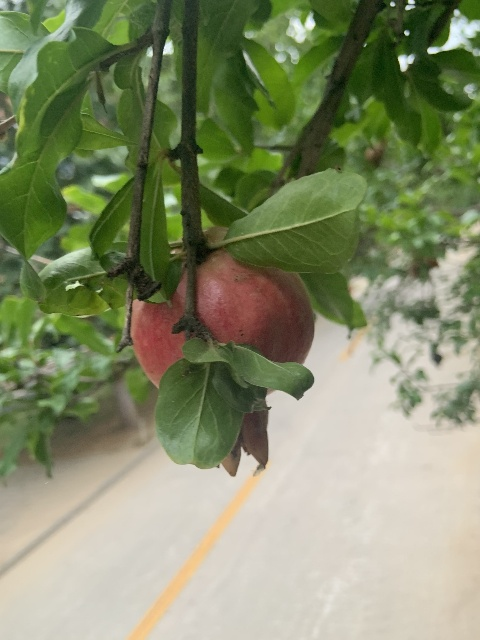ripe: (132, 245, 318, 477)
